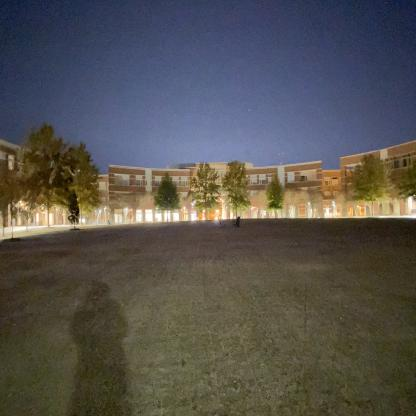eb2: (106, 155, 340, 231)
